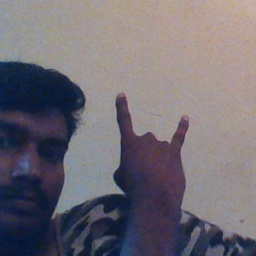V: (106, 85, 197, 209)
